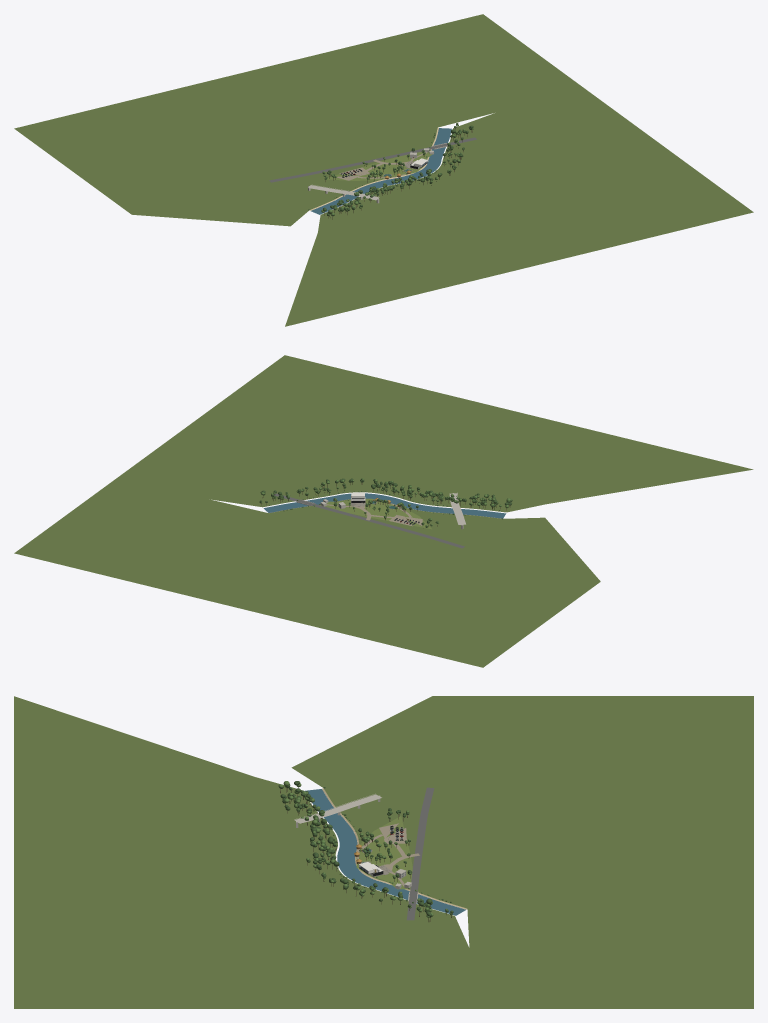
The model's file is kiramala-site.glb.
3 views of the same model, one above another, from view 1: azimuth 30°, elevation 25°; view 2: azimuth 150°, elevation 25°; view 3: azimuth 270°, elevation 25° (orthographic). The views are drawn at different scales.
Parts seen in each view (by area): view 1: north_bank_ground, far_shore_ground, river_water_surface, property_parcel, main_road; view 2: north_bank_ground, far_shore_ground, river_water_surface, property_parcel, main_road; view 3: north_bank_ground, far_shore_ground, river_water_surface, property_parcel, main_road.
Part boxes in pixels (bbox=[...]): north_bank_ground: bbox=[14, 14, 585, 226]; far_shore_ground: bbox=[285, 89, 753, 326]; river_water_surface: bbox=[311, 128, 451, 214]; property_parcel: bbox=[323, 150, 432, 180]; main_road: bbox=[269, 137, 477, 182]; north_bank_ground: bbox=[14, 478, 600, 667]; far_shore_ground: bbox=[117, 355, 753, 512]; river_water_surface: bbox=[263, 493, 506, 518]; property_parcel: bbox=[320, 498, 431, 529]; main_road: bbox=[274, 493, 464, 548]; north_bank_ground: bbox=[291, 696, 753, 1008]; far_shore_ground: bbox=[14, 696, 472, 1008]; river_water_surface: bbox=[305, 789, 465, 915]; property_parcel: bbox=[356, 816, 412, 889]; main_road: bbox=[406, 787, 434, 920].
Size of the model in its own units: 920 by 18.05 by 920.
